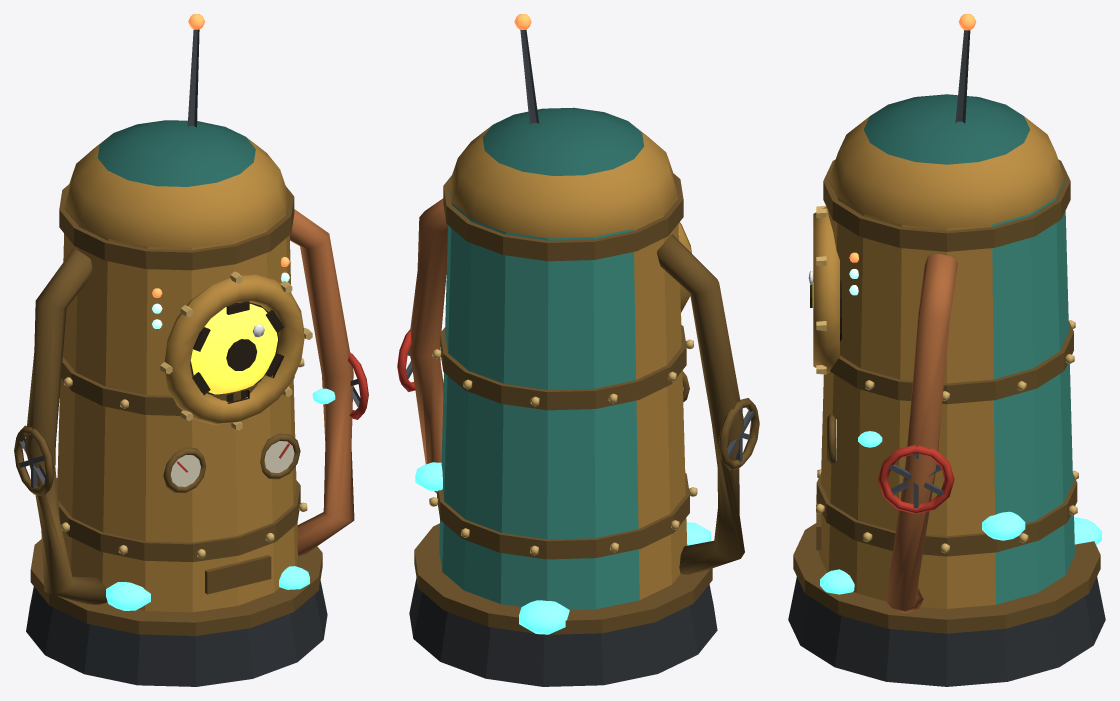
The model's file is pasu.glb.
The picture shows the model from 3 angles, left to right: view 1: azimuth 30°, elevation 25°; view 2: azimuth 150°, elevation 25°; view 3: azimuth 270°, elevation 25°; orthographic projection. The views are drawn at different scales.
Visible parts, largest first — view 1: pasu, pasu_lens; view 2: pasu; view 3: pasu.
Boxes of the visible parts, box(x1,y1,x2,y2) form: pasu: box(14, 14, 368, 686); pasu_lens: box(190, 301, 284, 403); pasu: box(397, 14, 759, 686); pasu: box(788, 14, 1105, 686).
Size of the model in its own units: 1.52 by 2.67 by 1.24.
1 material, 1 textured.
